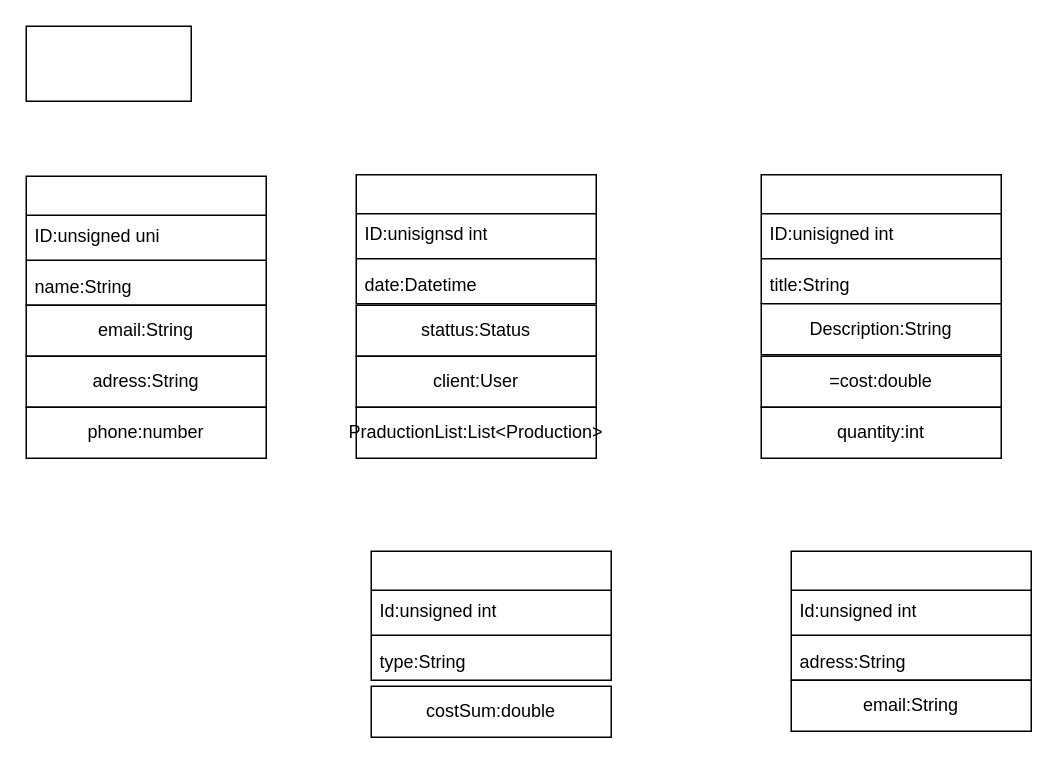
This 1058x764 diagram has some shape labels left out. The shapes that lost their labels are listed below. From the top down, each one's box as (x1, y1, x2, y2) in pixels, then its label:
(25, 25, 191, 101): Task
(25, 175, 266, 305): User
(355, 173, 596, 304): Order
(760, 173, 1001, 304): Product
(370, 550, 611, 680): Paymant
(790, 550, 1031, 680): Delivery
